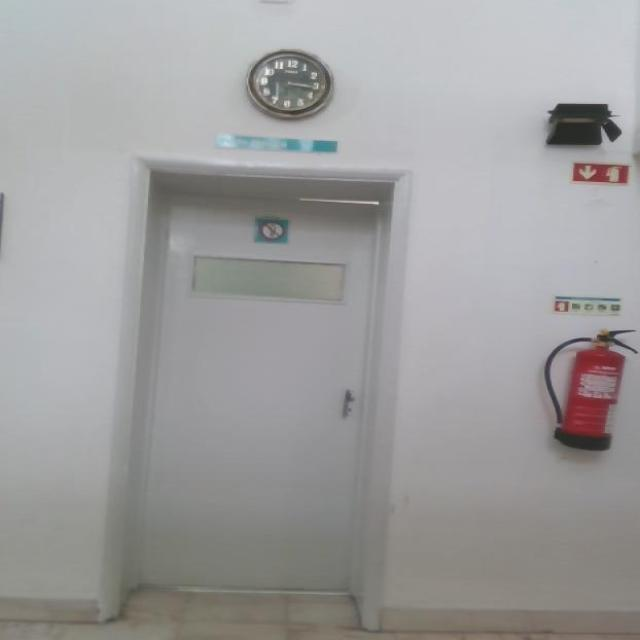door: (135, 189, 380, 599)
